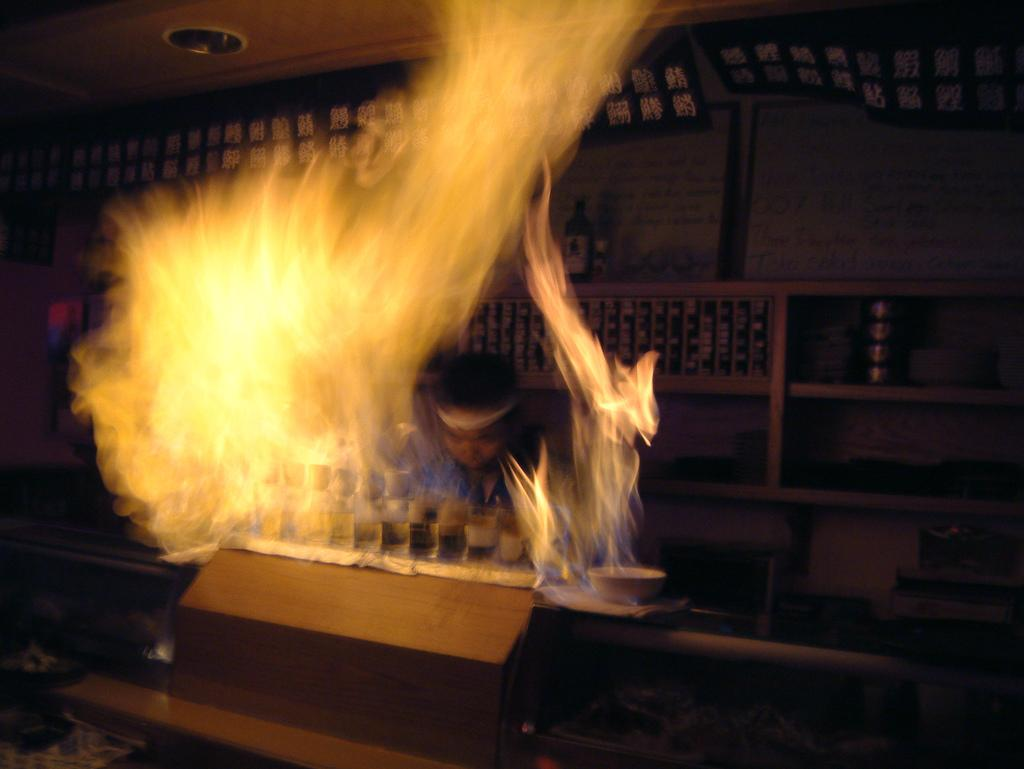fire: (160, 248, 374, 546)
